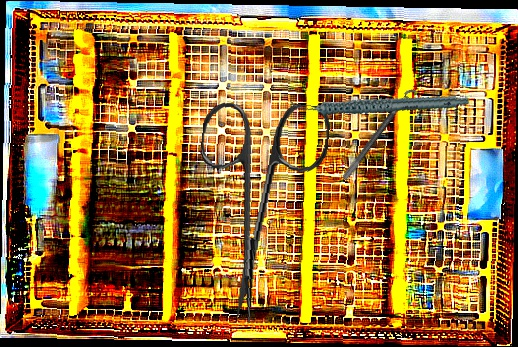Fixation Ring: (341, 85, 423, 187)
Handpiece: (288, 64, 470, 143)
Iris Scissors: (183, 94, 332, 330)
